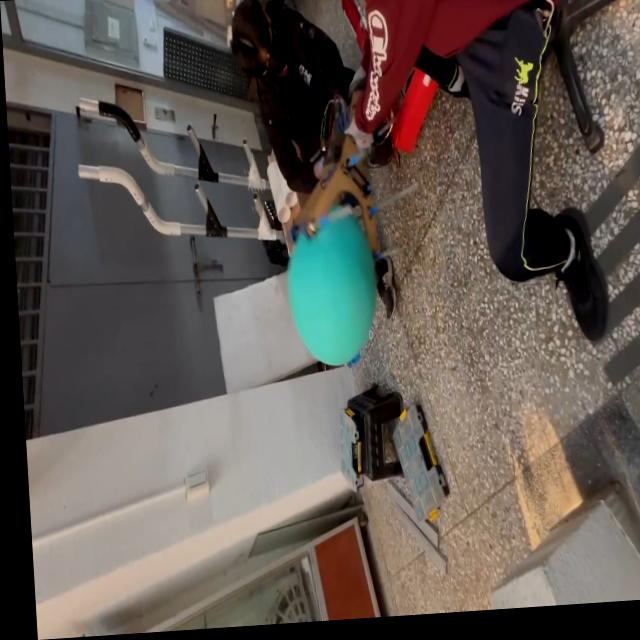ALGAE: (283, 207, 382, 371)
